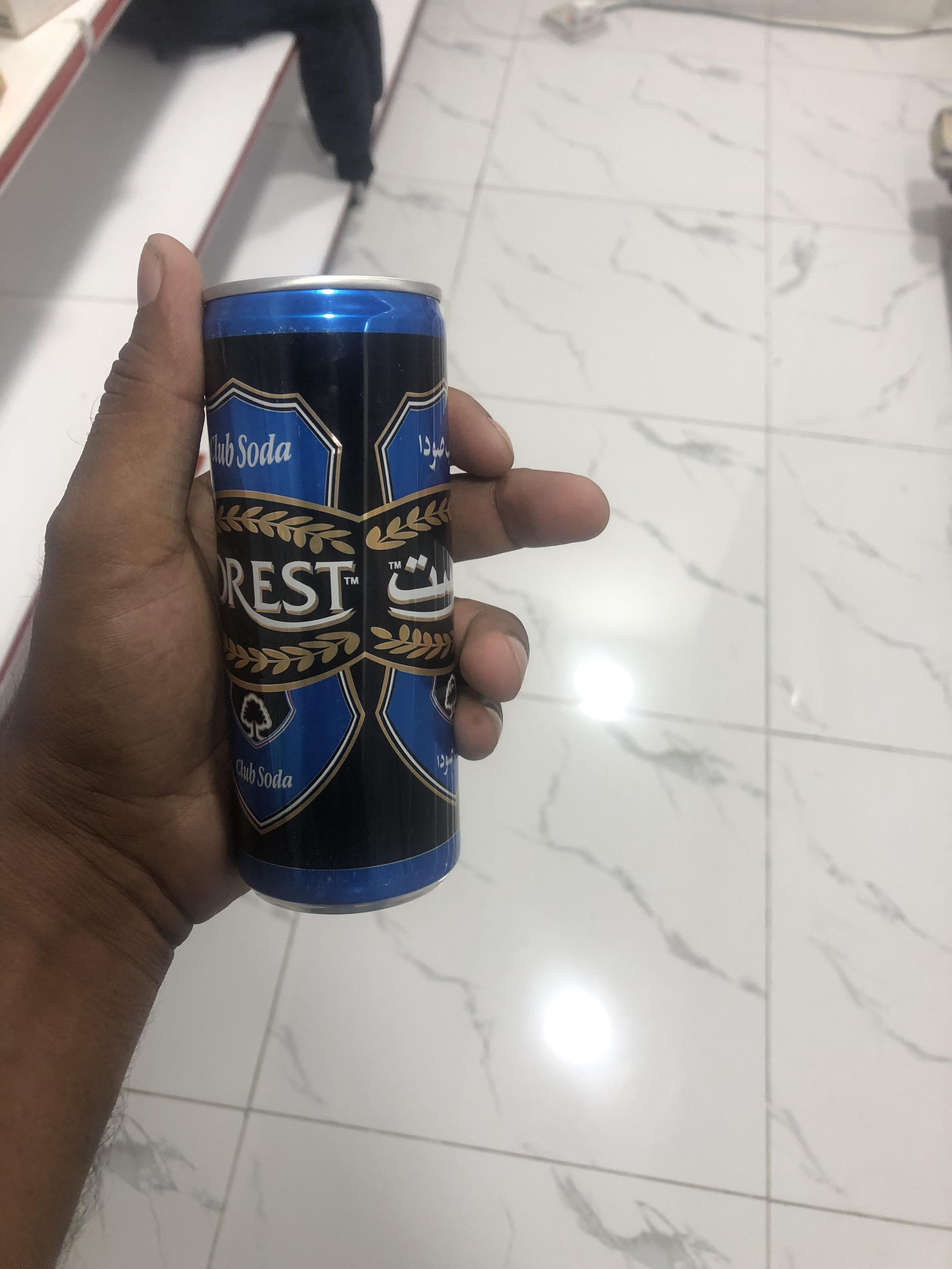tin can: (187, 265, 465, 929)
